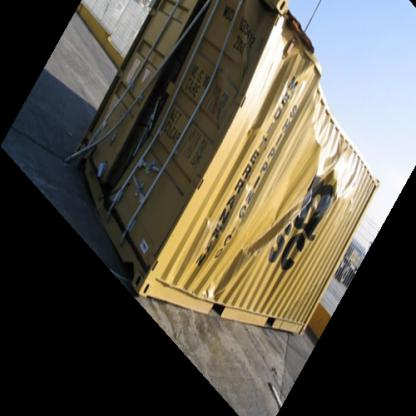Damage: (226, 132, 340, 296), (115, 9, 203, 184)
